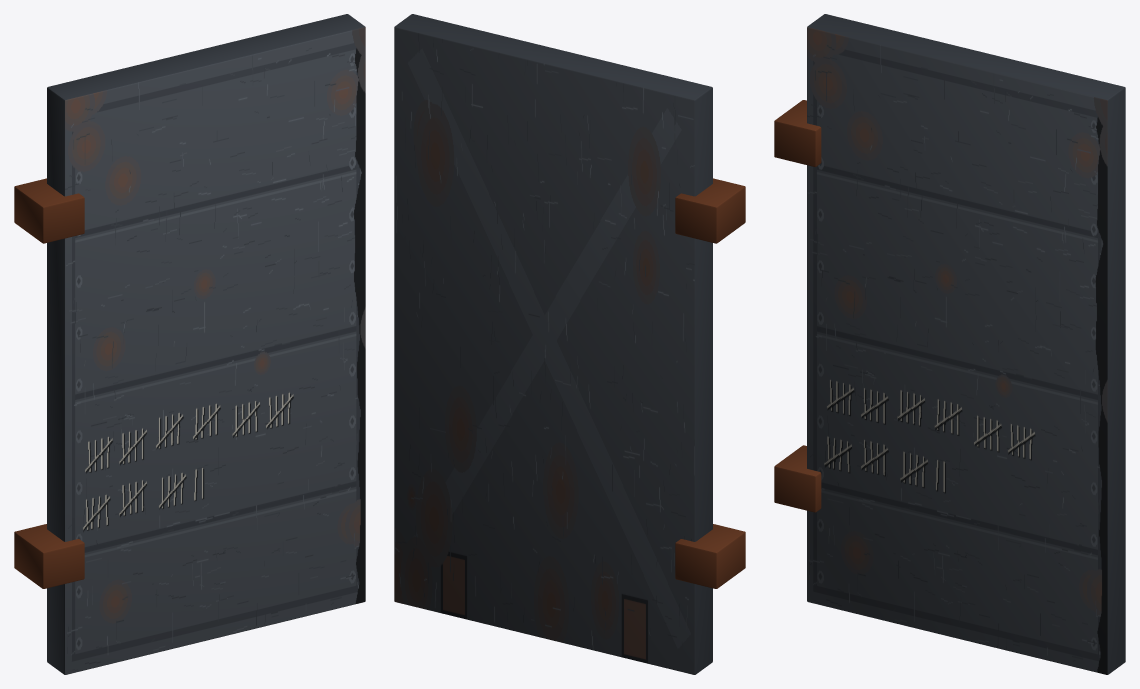
Rendered from aegis_door.glb.
3 renders of one model, left to right at view 1: azimuth 30°, elevation 25°; view 2: azimuth 150°, elevation 25°; view 3: azimuth 330°, elevation 25°, orthographic.
Parts seen in each view (by area): view 1: door; view 2: door; view 3: door.
Boxes of the visible parts, x1,y1,x2,y2 form: door: (14,14,365,674); door: (394,14,745,674); door: (774,14,1125,674).
Bounding box in the file's own units: 0.9265 × 1.55 × 0.144.
Materials: 1 (1 with a texture image).
